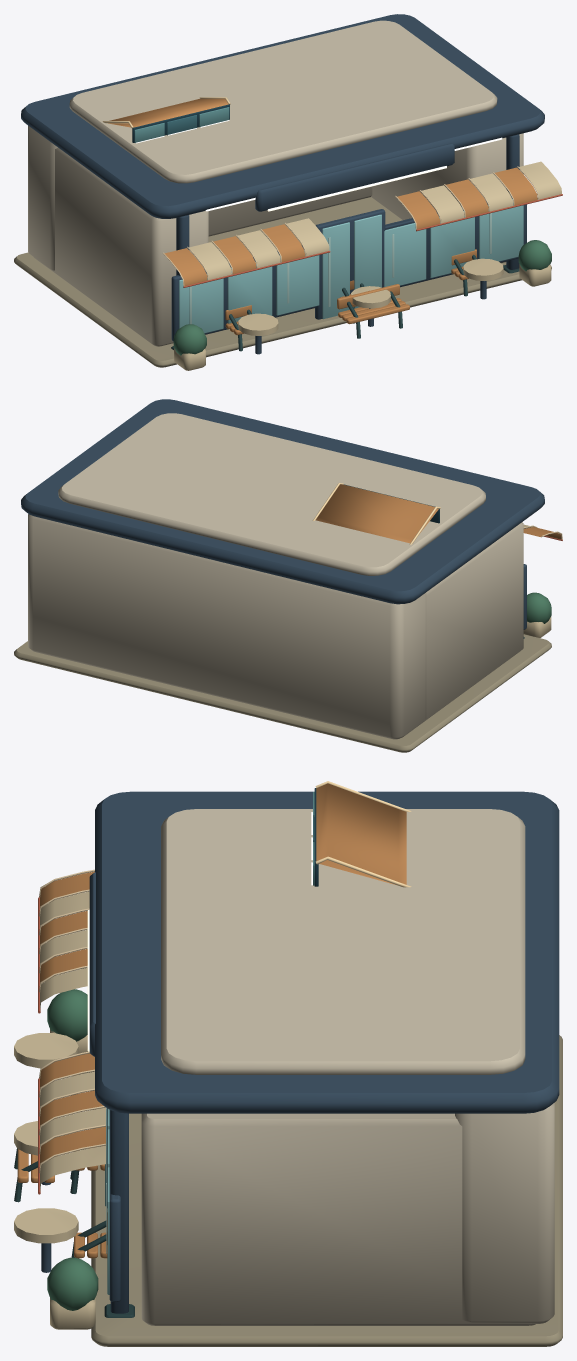
File: luxury_restaurant.glb
3 views of the same model, one above another, from view 1: azimuth 30°, elevation 25°; view 2: azimuth 150°, elevation 25°; view 3: azimuth 270°, elevation 25° (orthographic). The views are drawn at different scales.
Visible parts, largest first — view 1: LuxuryRestaurant; view 2: LuxuryRestaurant; view 3: LuxuryRestaurant.
Boxes of the visible parts, x1,y1,x2,y2 form: LuxuryRestaurant: (14, 14, 562, 370); LuxuryRestaurant: (14, 399, 562, 752); LuxuryRestaurant: (14, 781, 562, 1346).
Size of the model in its own units: 9.98 by 4.4 by 7.47.
